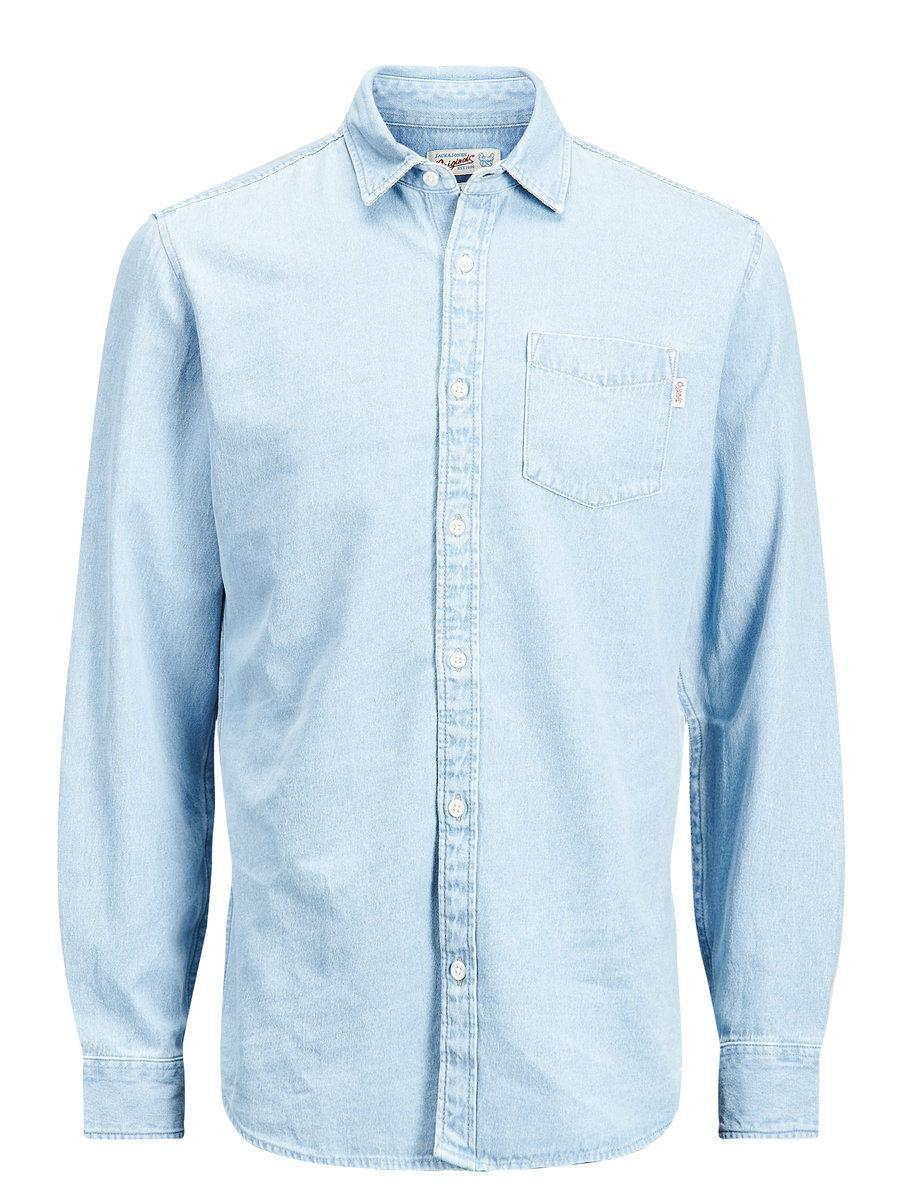teeshirt: (52, 65, 860, 1176)
